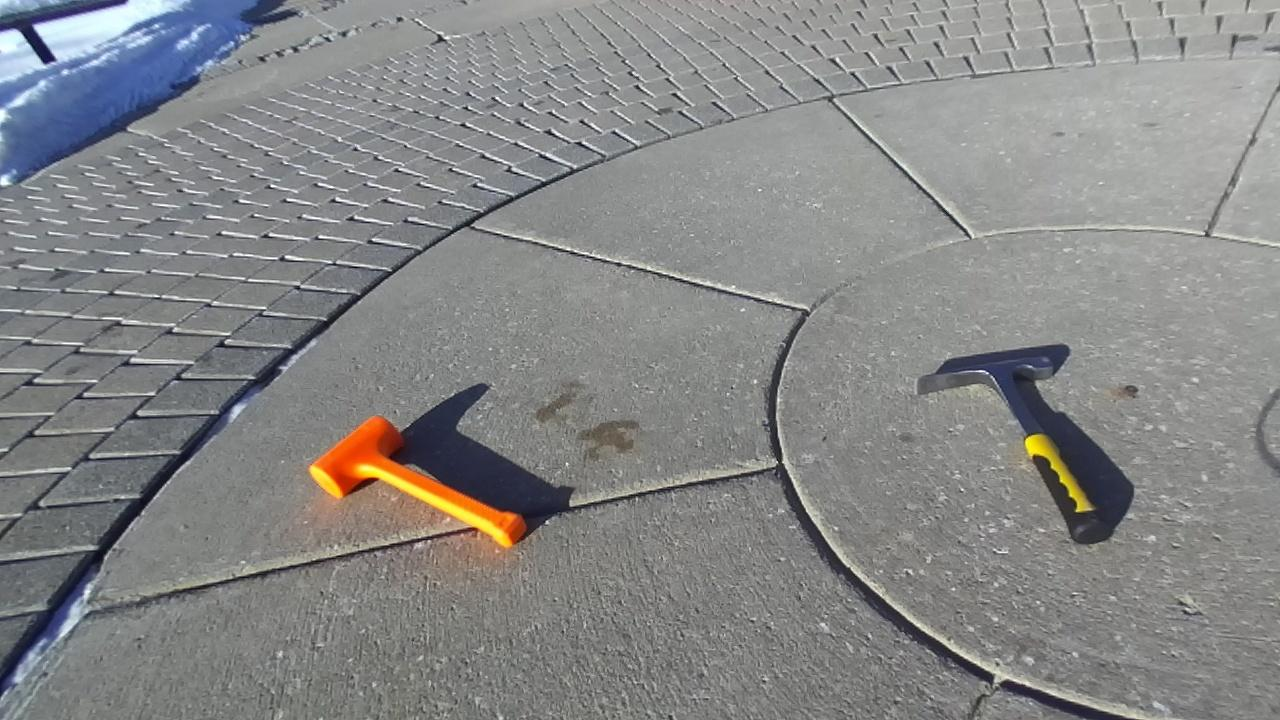mallet: (310, 416, 525, 546)
pick: (917, 348, 1113, 543)
